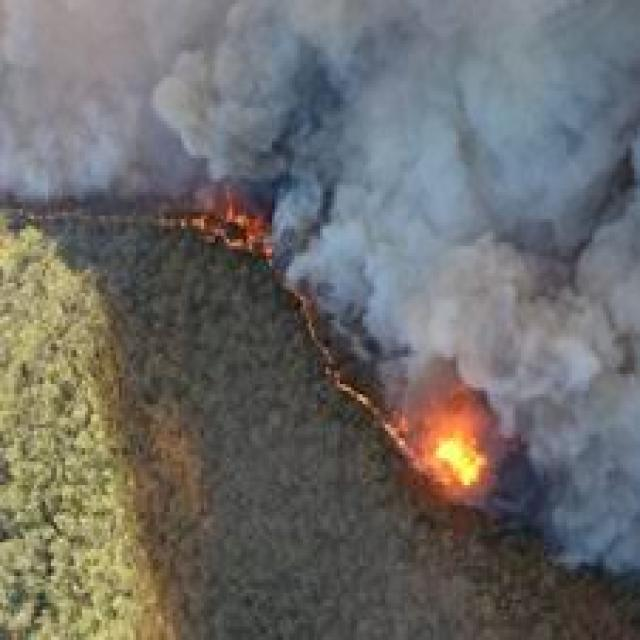Fire: (404, 376, 502, 522)
Smoke: (0, 0, 274, 205), (452, 0, 638, 212), (276, 1, 453, 210), (456, 215, 640, 378), (274, 212, 454, 373), (502, 378, 640, 586)
